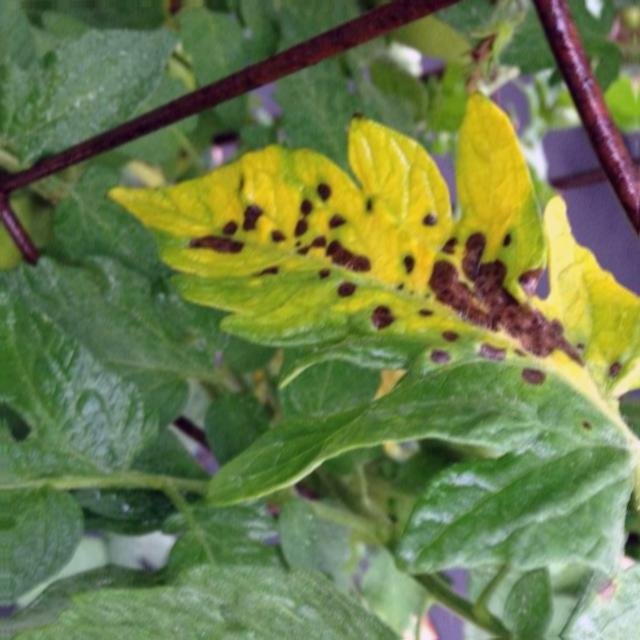Tomato leaf bacterial spot: (88, 86, 640, 436)
